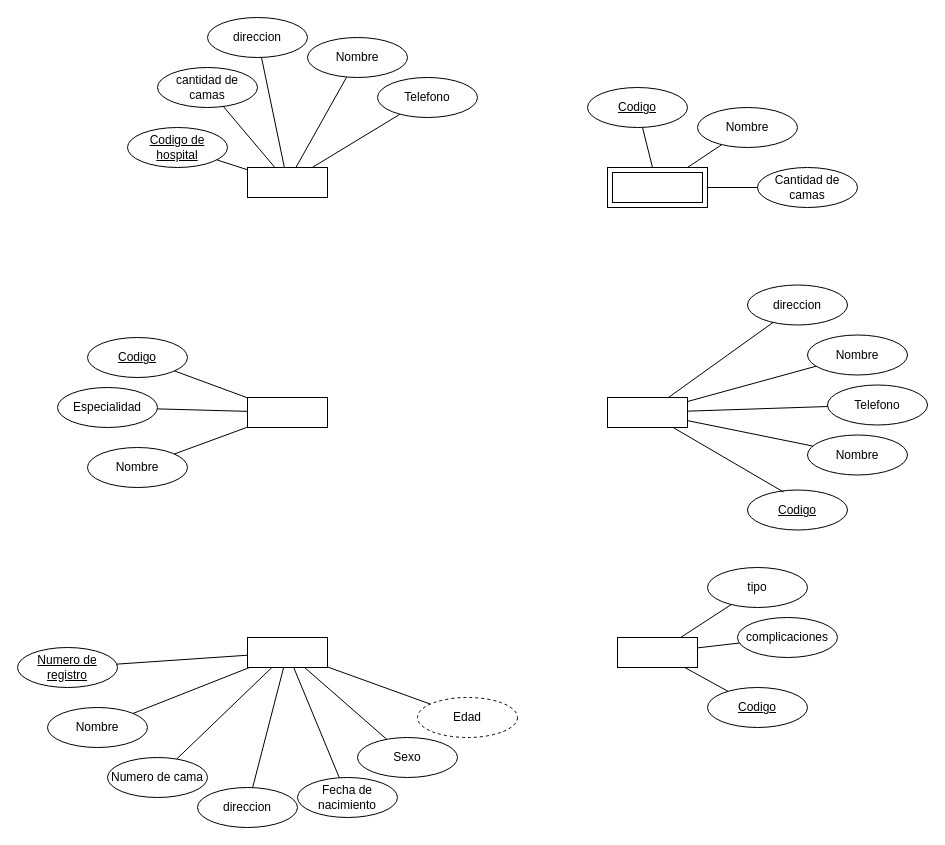
The diagram is 945 pixels wide and 845 high, and some of its shapes have lost their labels. The centre of each missing label's shape, as x and y in pixels:
Diagnostico: point 657,652
Hospital: point 287,182
Laboratorio: point 647,412
Paciente: point 287,652
Profesional: point 287,412
Sala: point 657,187
